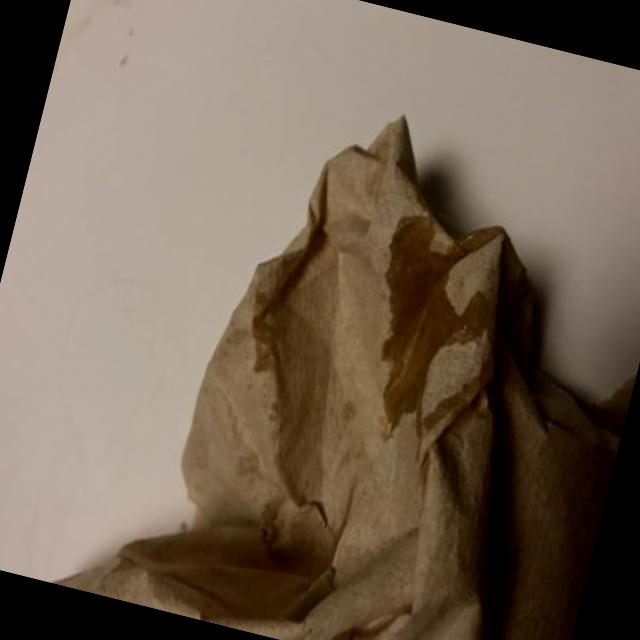Trash: (79, 60, 640, 640)
